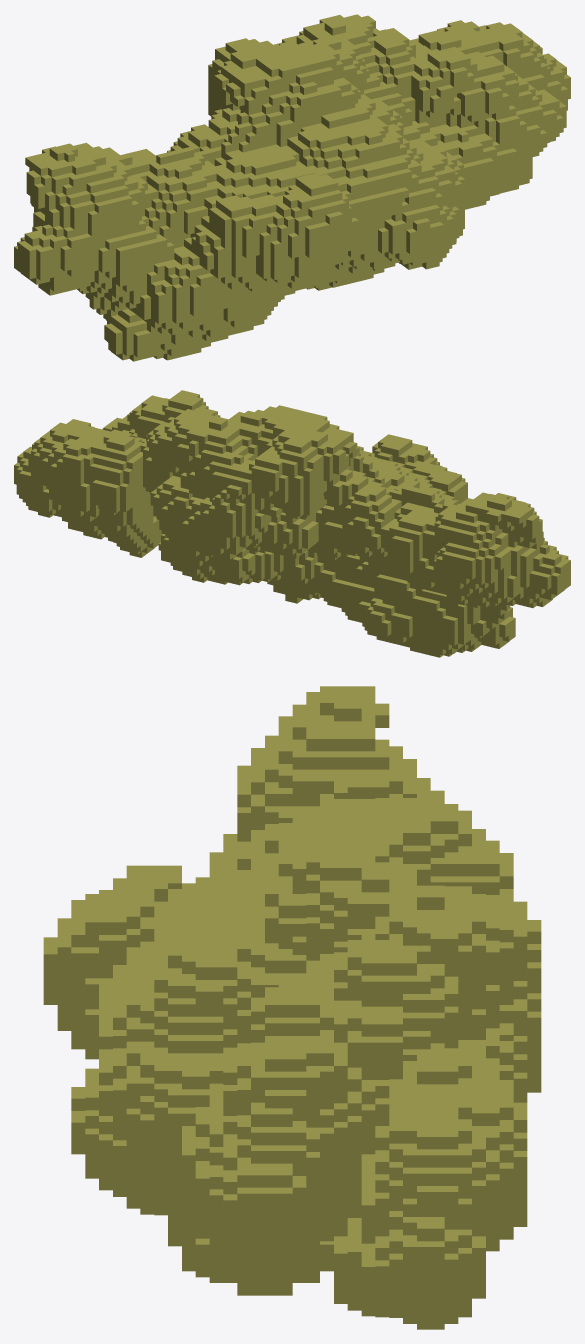
Rendered from forest1.3-0.obj.
The picture shows the model from 3 angles, top to bottom: view 1: azimuth 30°, elevation 25°; view 2: azimuth 150°, elevation 25°; view 3: azimuth 270°, elevation 25°; orthographic projection. The views are drawn at different scales.
Size of the model in its own units: 8.5 by 3.4 by 3.6.
Materials: 1 (1 with a texture image).
